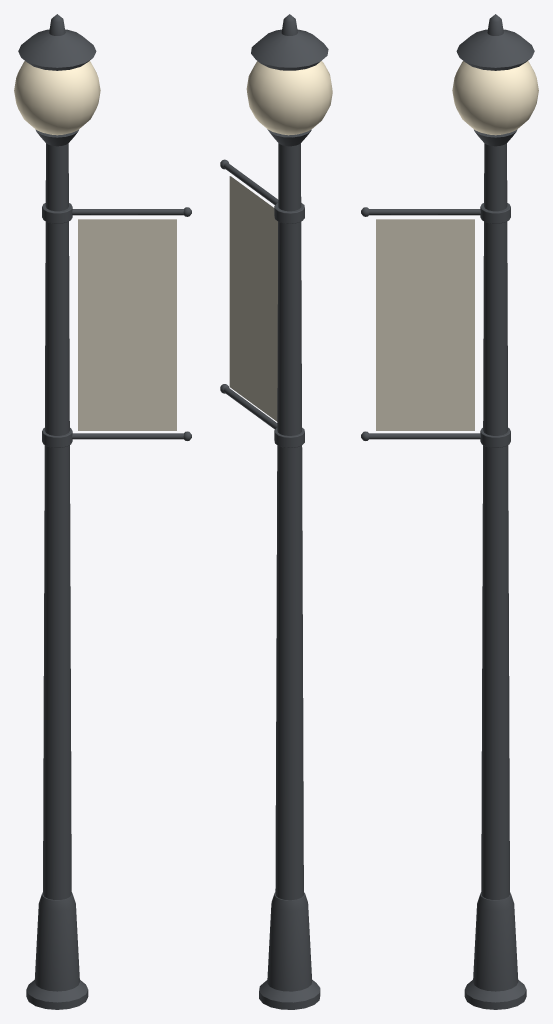
File: shotengai_lamp.fbx
The picture shows the model from 3 angles, left to right: view 1: azimuth 90°, elevation 25°; view 2: azimuth 210°, elevation 25°; view 3: azimuth 270°, elevation 25°; orthographic projection.
Parts seen in each view (by area): view 1: shotengai_lamp; view 2: shotengai_lamp; view 3: shotengai_lamp.
Part boxes in pixels (x1,y1,x2,y2): shotengai_lamp: (14,14,191,1009); shotengai_lamp: (220,14,332,1009); shotengai_lamp: (361,14,538,1009).
Size of the model in its own units: 0.42 by 5.26 by 0.8628.
